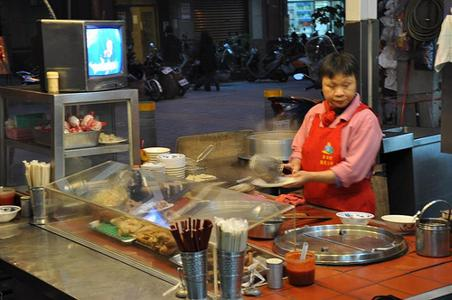person: (281, 54, 383, 223)
